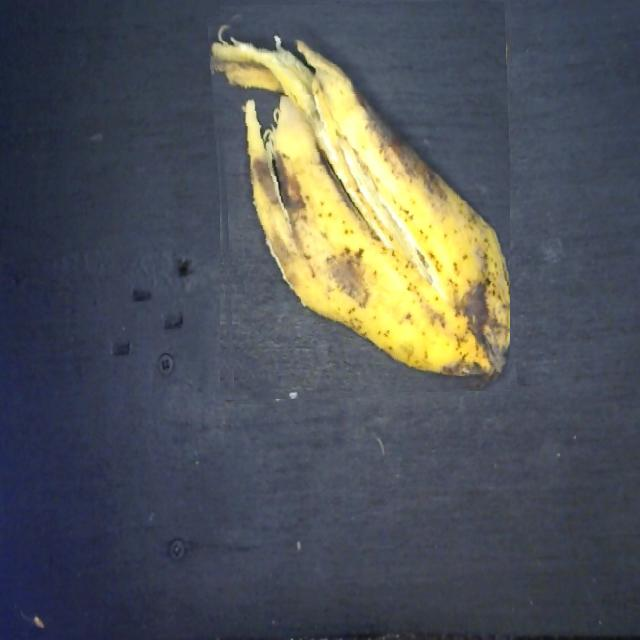biodegradable: (214, 1, 510, 400)
